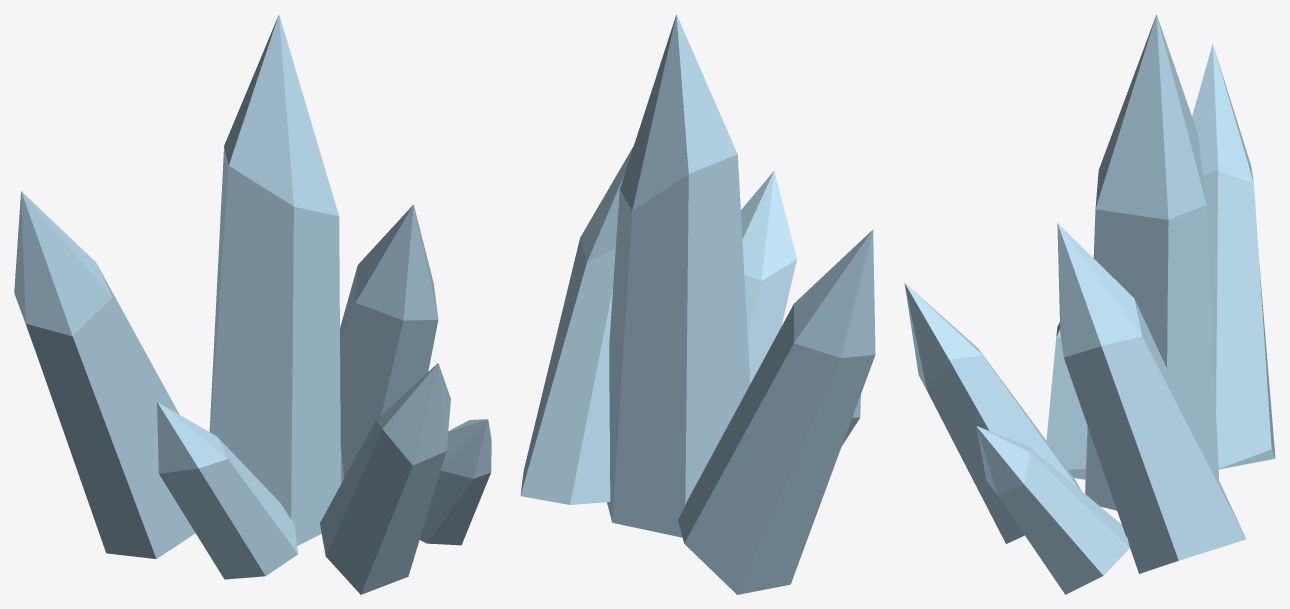
Rendered from ice_shard.glb.
3 renders of one model, left to right at view 1: azimuth 30°, elevation 25°; view 2: azimuth 150°, elevation 25°; view 3: azimuth 270°, elevation 25°, orthographic. The views are drawn at different scales.
Visible parts, largest first — view 1: ice_shard; view 2: ice_shard; view 3: ice_shard.
Boxes of the visible parts, <box> form: ice_shard: <box>14,14,491,594</box>; ice_shard: <box>520,14,875,594</box>; ice_shard: <box>904,14,1275,594</box>.
Bounding box in the file's own units: 0.7801 × 1.05 × 0.6815.
